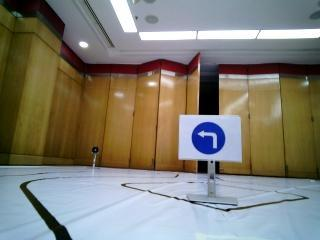left: (183, 115, 237, 160)
